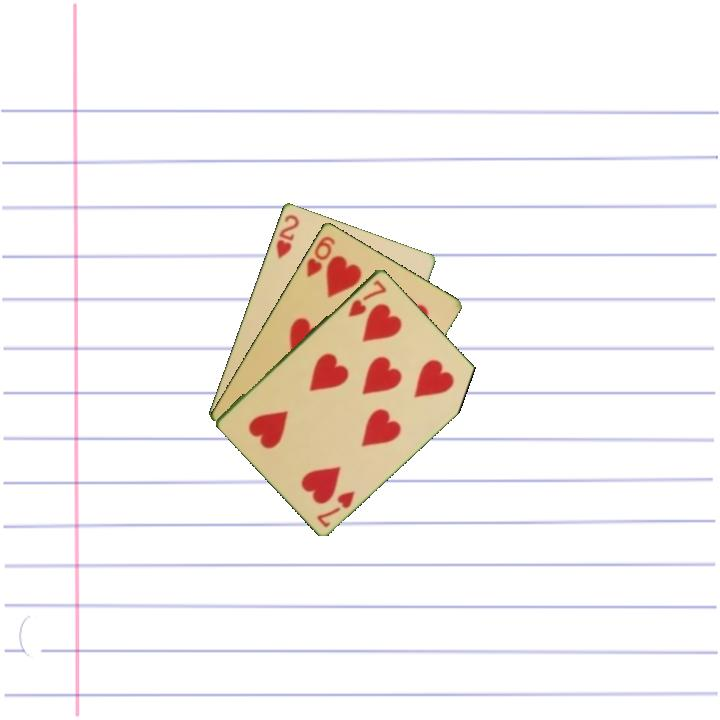2h: (272, 210, 302, 262)
6h: (303, 232, 338, 280)
7h: (344, 276, 390, 320), (313, 487, 358, 530)
